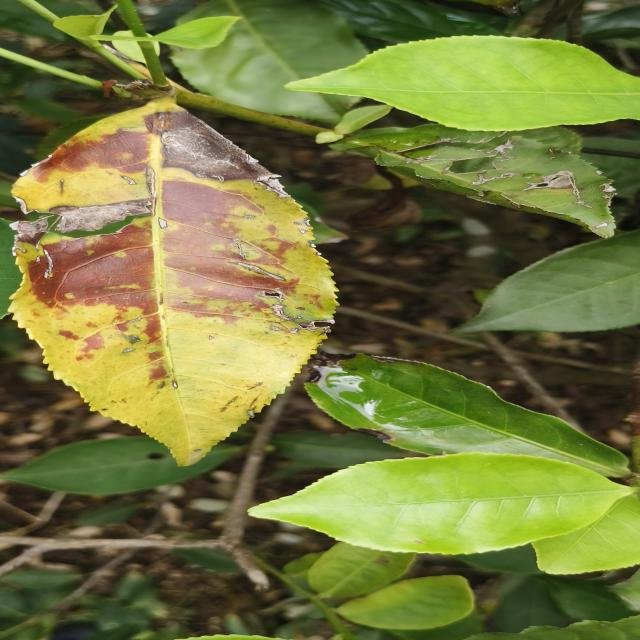Leaf: (11, 98, 334, 466), (307, 355, 627, 477), (250, 453, 633, 554), (287, 36, 640, 131), (333, 124, 615, 237), (171, 0, 367, 125), (456, 230, 640, 333), (1, 436, 240, 495), (533, 494, 640, 574), (338, 575, 474, 630), (307, 542, 415, 598), (272, 431, 407, 469)
